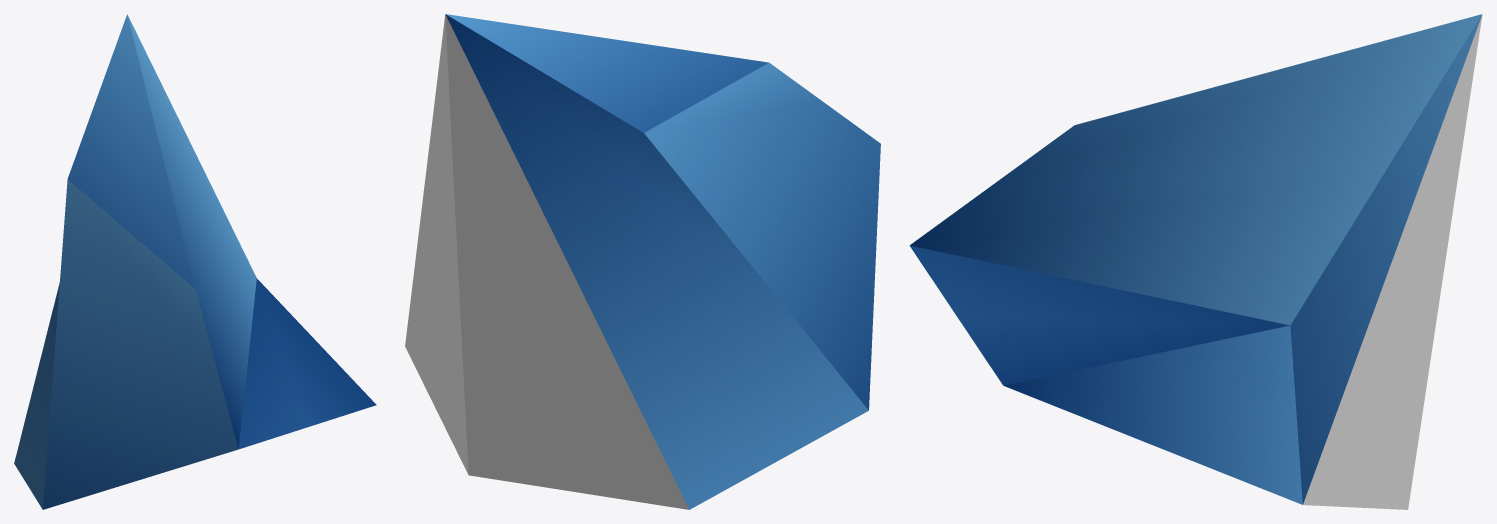
File: testRock.fbx
3 views of the same model, side by side, from view 1: azimuth 30°, elevation 25°; view 2: azimuth 150°, elevation 25°; view 3: azimuth 270°, elevation 25° (orthographic). The views are drawn at different scales.
Visible parts, largest first — view 1: Cone.006; view 2: Cone.006; view 3: Cone.006.
Boxes of the visible parts, box(x1,y1,x2,y2) form: Cone.006: box(14, 14, 376, 509); Cone.006: box(405, 14, 880, 509); Cone.006: box(909, 14, 1482, 509).
Bounding box in the file's own units: 127 × 151 × 160.
